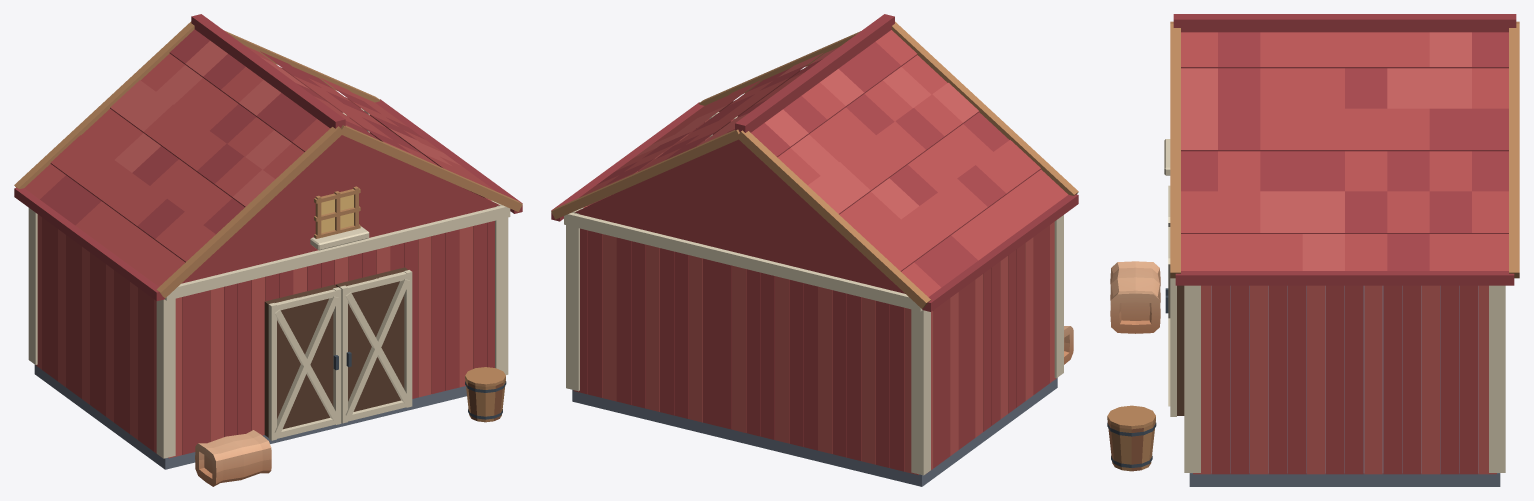
File: barn.glb
The picture shows the model from 3 angles, left to right: view 1: azimuth 30°, elevation 25°; view 2: azimuth 150°, elevation 25°; view 3: azimuth 270°, elevation 25°; orthographic projection. The views are drawn at different scales.
Parts seen in each view (by area): view 1: barn_建筑共用调色板, barn_graveyard-kit 调色板; view 2: barn_建筑共用调色板; view 3: barn_建筑共用调色板, barn_graveyard-kit 调色板.
Part boxes in pixels (x1,y1,x2,y2): barn_建筑共用调色板: (14,14,522,469); barn_graveyard-kit 调色板: (195,430,271,486); barn_建筑共用调色板: (551,14,1078,486); barn_建筑共用调色板: (1107,14,1519,486); barn_graveyard-kit 调色板: (1110,261,1160,333).
Bounding box in the file's own units: 6.6 × 5.39 × 5.42.
2 materials, 2 textured.
